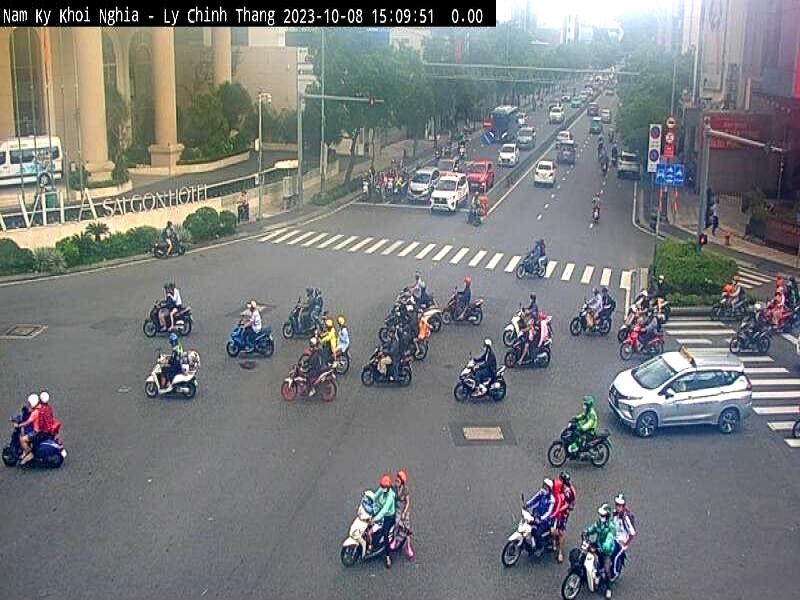car: (607, 350, 755, 436)
motorcycle: (0, 424, 69, 473), (549, 420, 611, 463), (560, 529, 597, 600), (455, 362, 510, 409), (503, 500, 536, 577), (280, 362, 339, 403), (338, 504, 370, 578), (363, 349, 419, 387), (148, 360, 197, 403), (141, 303, 196, 340), (283, 300, 329, 344), (225, 326, 278, 363)
